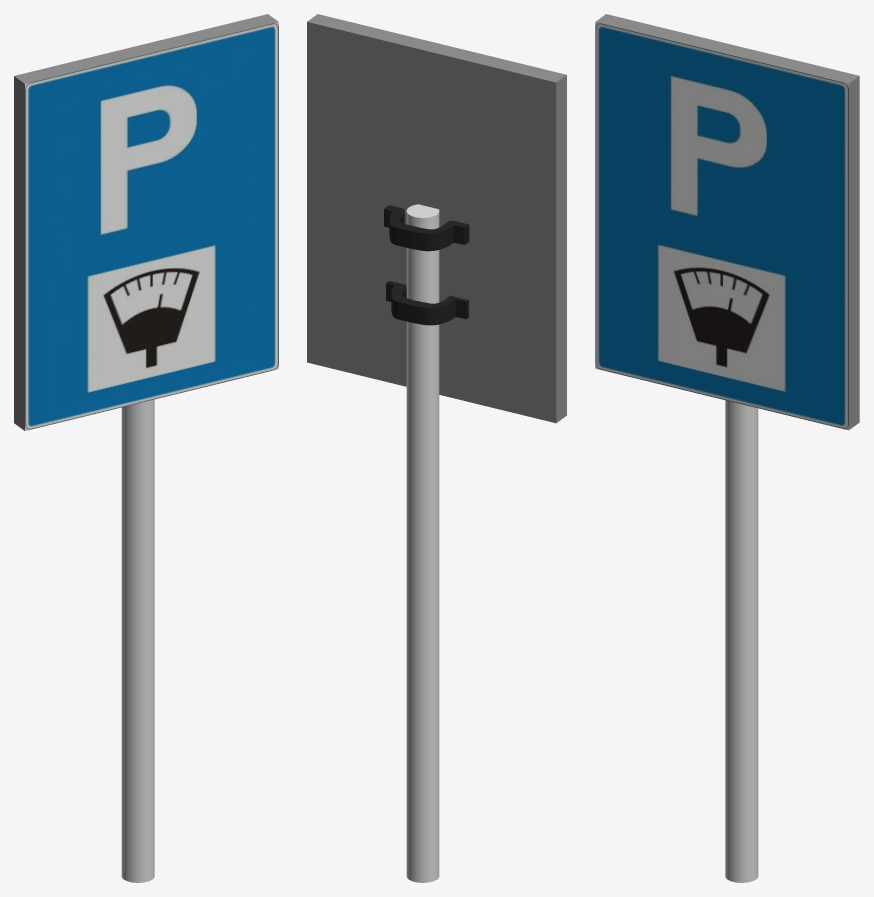
File: PARking.fbx
The picture shows the model from 3 angles, left to right: view 1: azimuth 30°, elevation 25°; view 2: azimuth 150°, elevation 25°; view 3: azimuth 330°, elevation 25°; orthographic projection.
Parts seen in each view (by area): view 1: Box001, sipka; view 2: Box001, sipka, s, Line006; view 3: Box001, sipka.
Part boxes in pixels (box(x1,y1,x2,y2)): Box001: box(14, 14, 278, 430); sipka: box(121, 399, 154, 882); Box001: box(307, 14, 566, 423); sipka: box(406, 204, 439, 882); s: box(384, 205, 469, 251); Line006: box(386, 280, 468, 325); Box001: box(595, 14, 859, 430); sipka: box(725, 400, 758, 882).
Bounding box in the file's own units: 23 × 72.32 × 5.15.
Materials: 8 (1 with a texture image).
